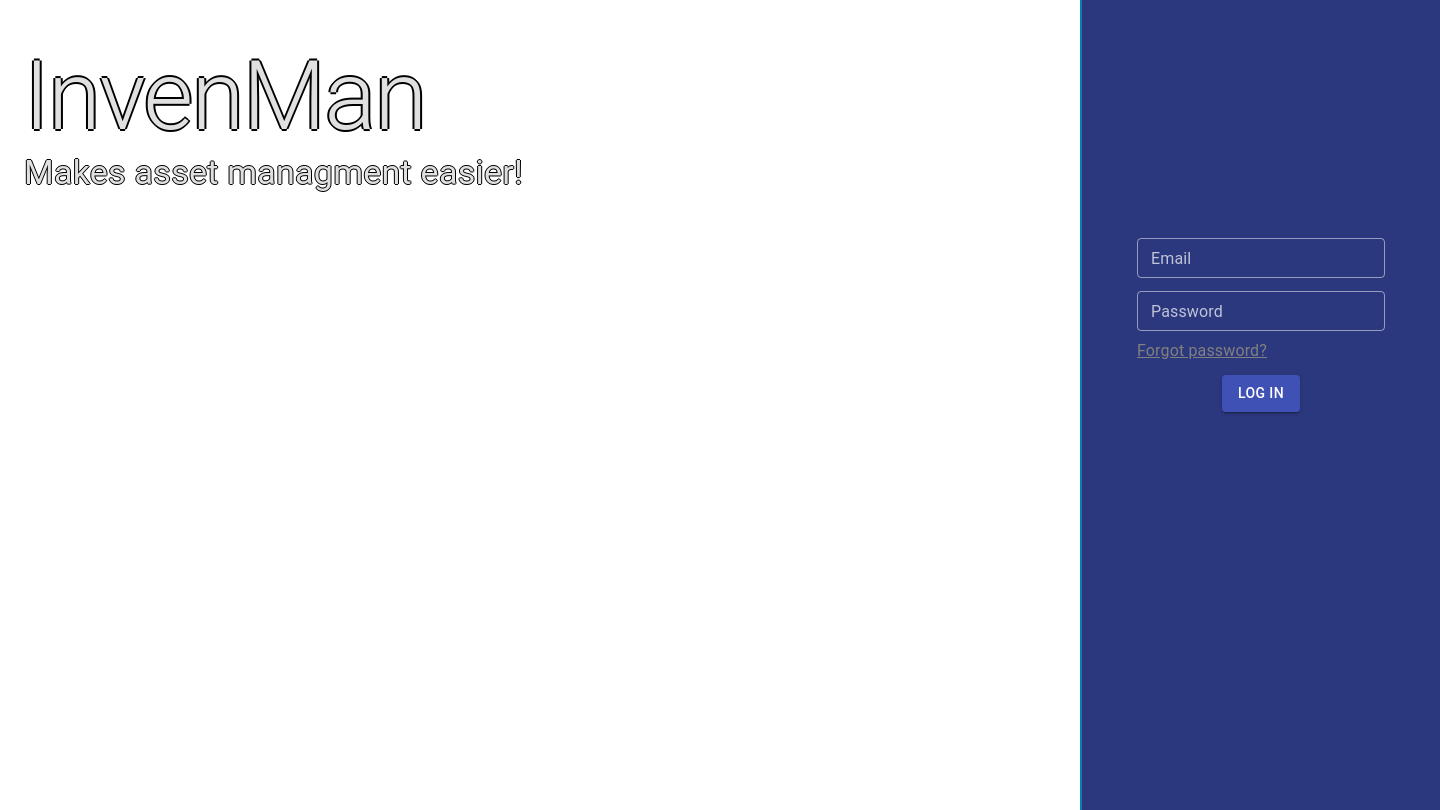
should display error if email format is wrong
Click the field labelled "Email": (1261, 258) x1=1137 y1=238 x2=1385 y2=278
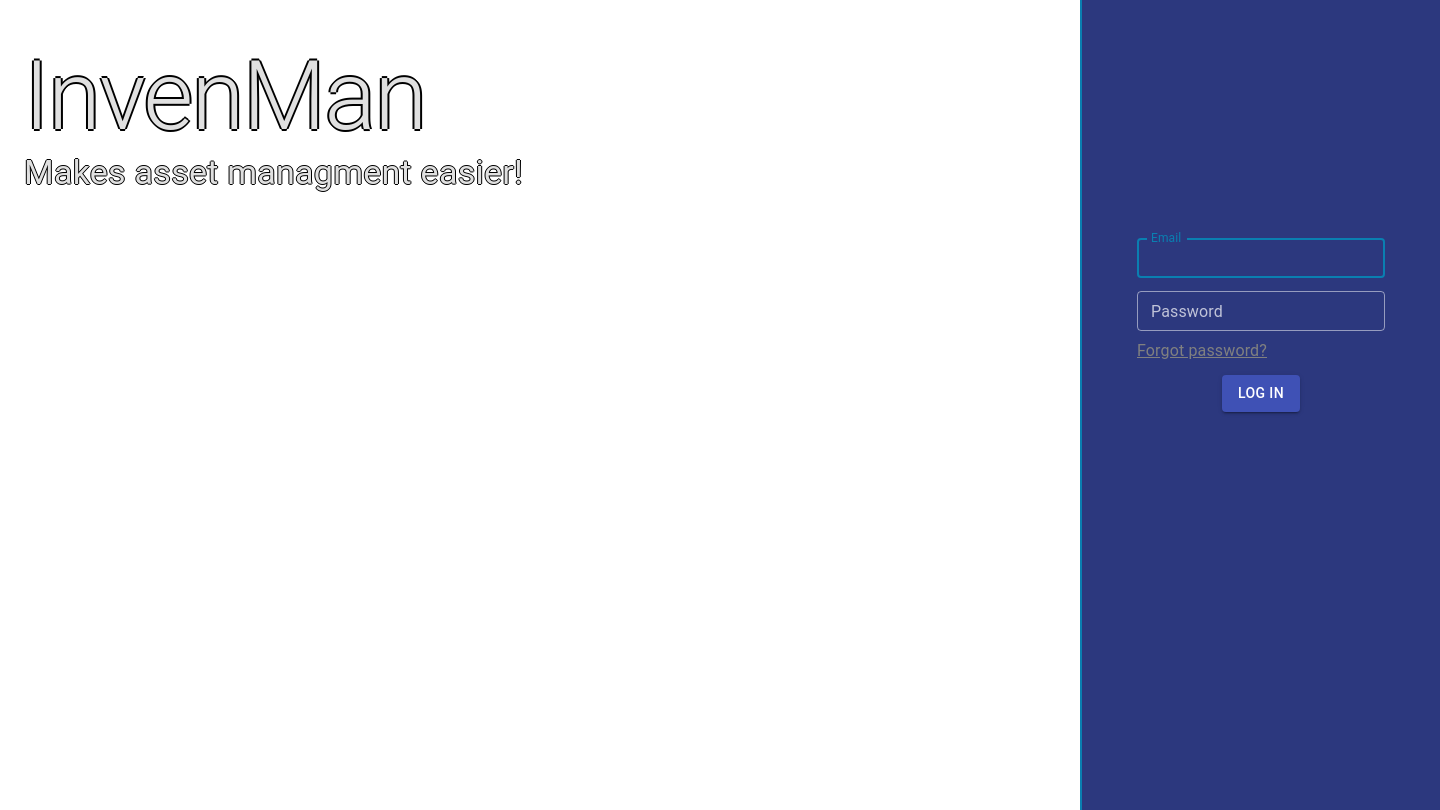
Type keys "not Email"
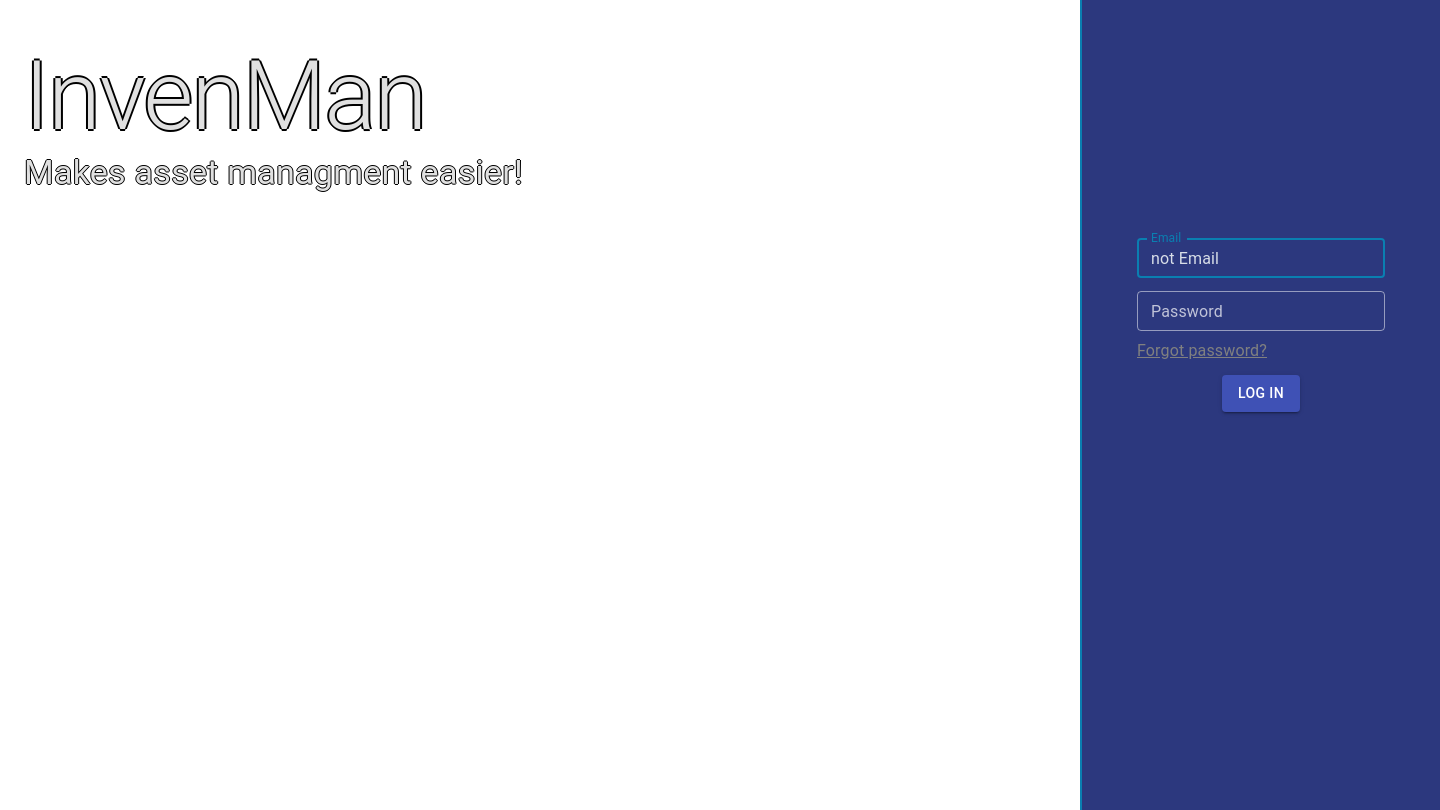
Click the button "Log in": (1261, 393) x1=1222 y1=375 x2=1300 y2=412
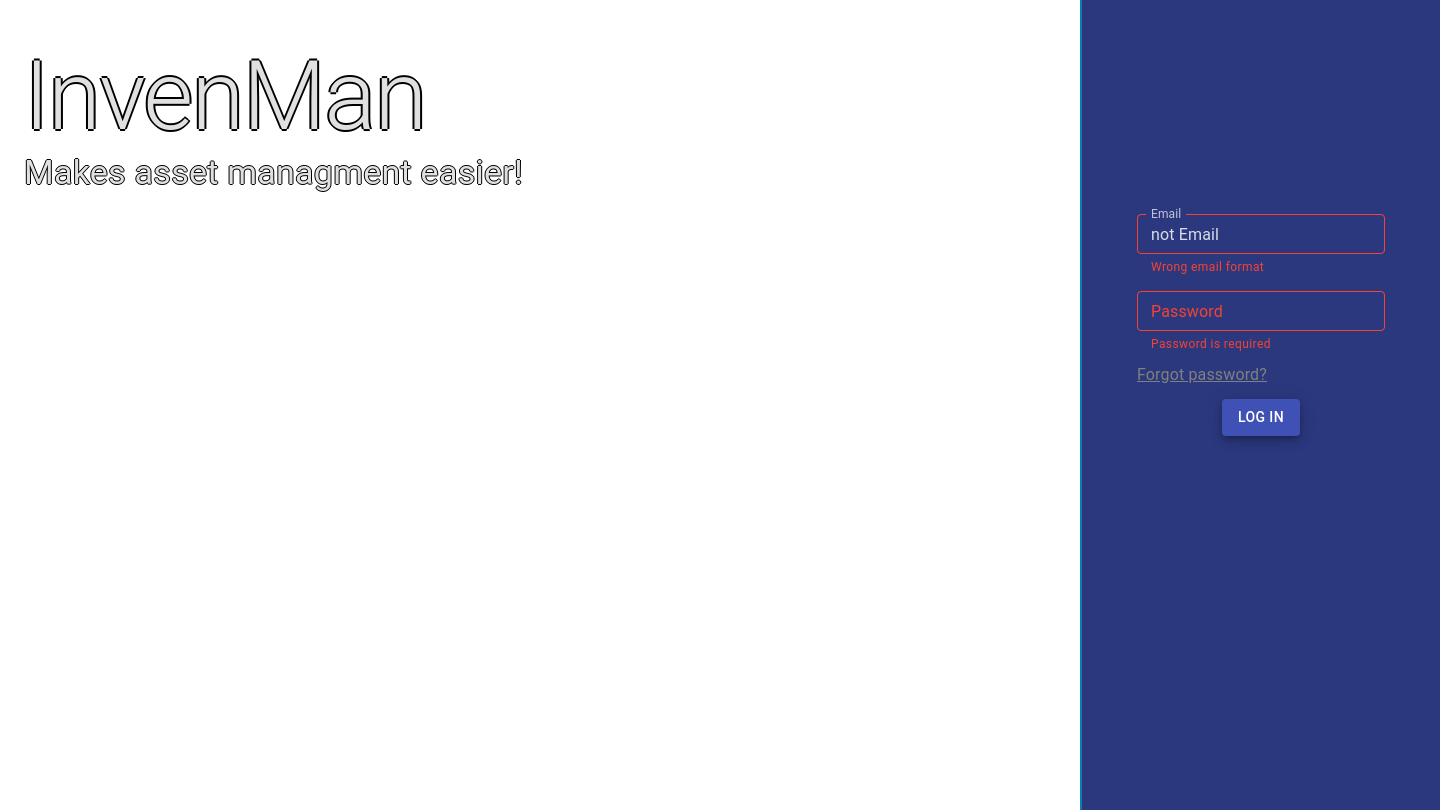
Now the text "Wrong email format" is shown, box x1=1151 y1=260 x2=1264 y2=274
